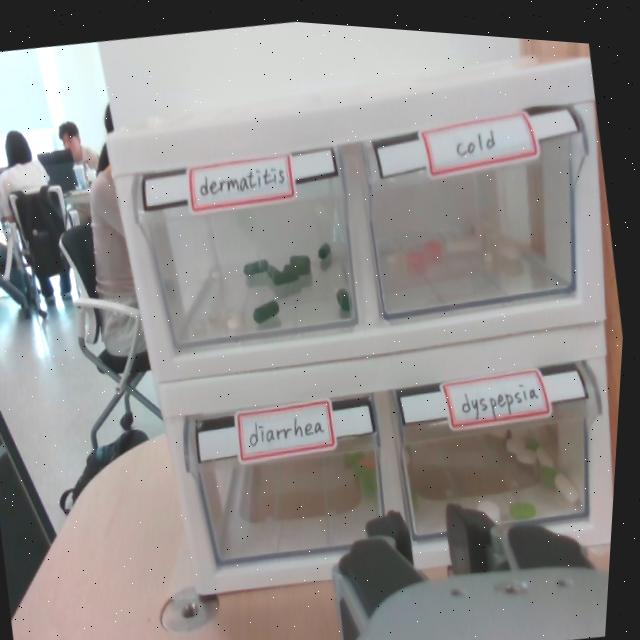text: (454, 372, 545, 426), (193, 157, 290, 207), (242, 406, 329, 455), (448, 121, 507, 162)
